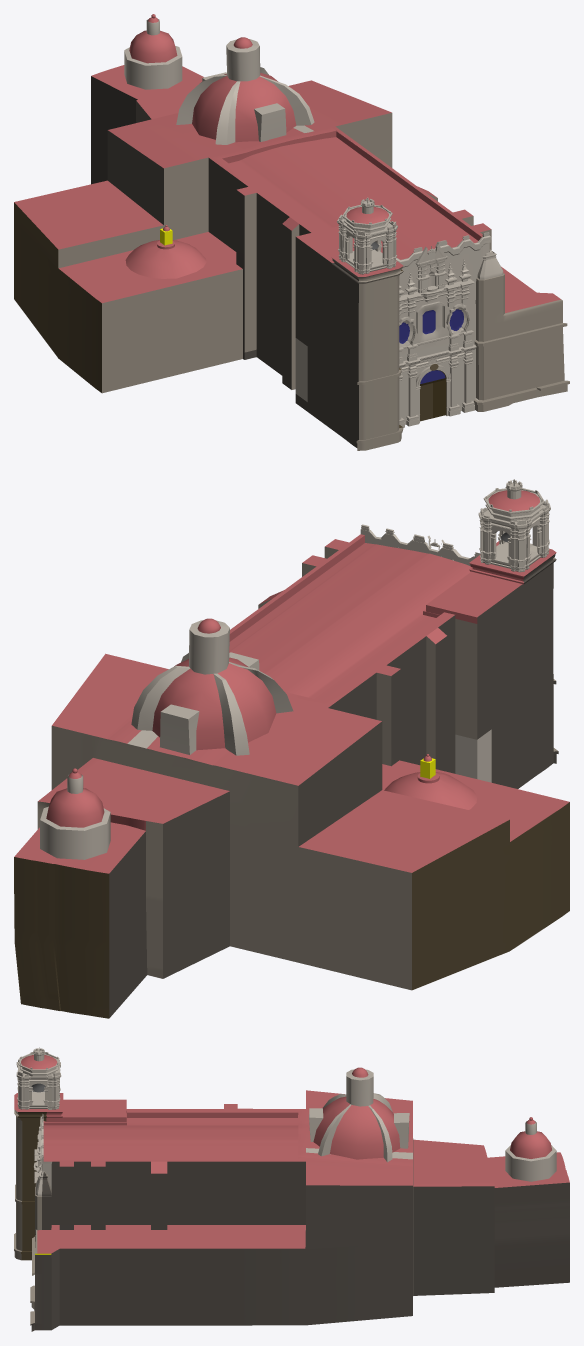
Rendered from San_Francisco_ColorSolido_glb.glb.
3 views of the same model, one above another, from view 1: azimuth 30°, elevation 25°; view 2: azimuth 150°, elevation 25°; view 3: azimuth 270°, elevation 25° (orthographic). The views are drawn at different scales.
Parts seen in each view (by area): view 1: Iglesia, cupula_Pricipal, Detalles, campanario1, pSphere5, cupula1; view 2: Iglesia, cupula_Pricipal, campanario1, pSphere5, cupula1; view 3: Iglesia, cupula_Pricipal, campanario1, pSphere5.
Boxes of the visible parts, box(x1,y1,x2,y2) form: Iglesia: box(14, 65, 569, 450); cupula_Pricipal: box(176, 37, 314, 144); Detalles: box(399, 243, 476, 427); campanario1: box(337, 197, 397, 274); pSphere5: box(124, 14, 182, 89); cupula1: box(125, 225, 206, 278); Iglesia: box(14, 524, 569, 1018); cupula_Pricipal: box(131, 618, 293, 755); campanario1: box(478, 479, 550, 572); pSphere5: box(40, 768, 110, 859); cupula1: box(384, 754, 477, 809); Iglesia: box(14, 1090, 569, 1331); cupula_Pricipal: box(309, 1067, 409, 1162); campanario1: box(16, 1047, 61, 1109); pSphere5: box(505, 1117, 556, 1181).
Size of the model in its own units: 0.2404 by 0.1595 by 0.3843.
12 materials, 1 textured.
